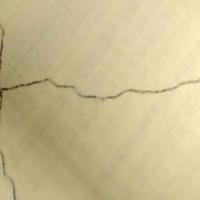crack: (0, 56, 199, 116)
